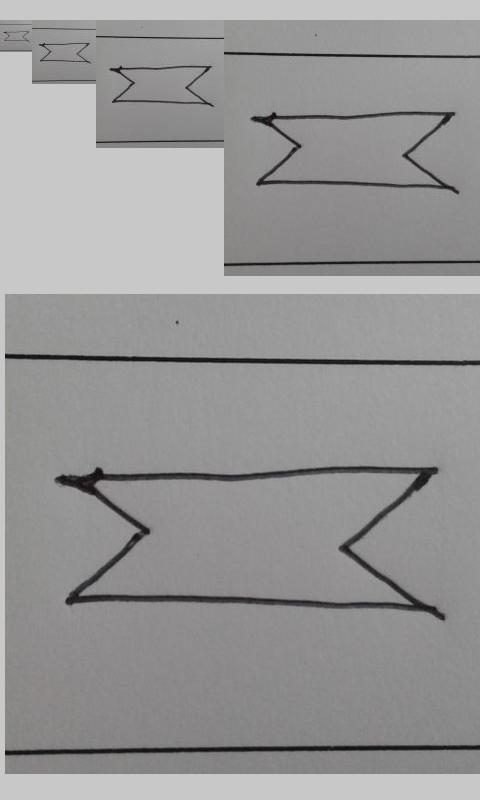edit_text: (51, 461, 446, 619), (253, 110, 456, 191), (108, 65, 213, 105), (38, 42, 90, 63), (3, 31, 30, 42)
